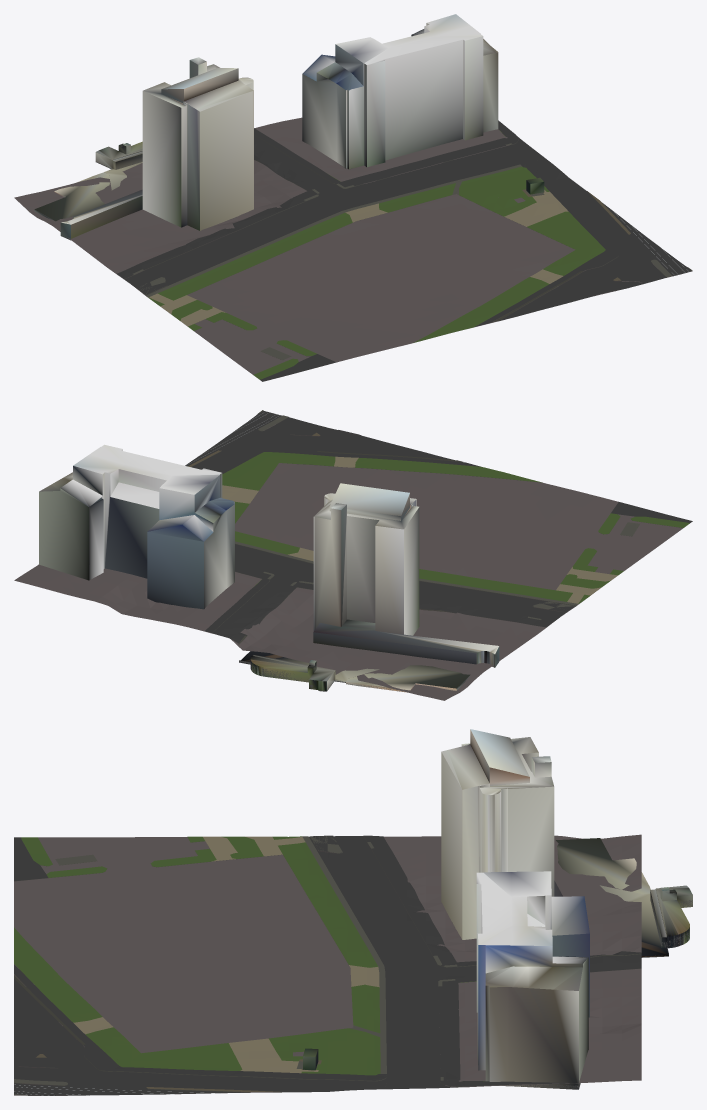
3 views of the same model, one above another, from view 1: azimuth 30°, elevation 25°; view 2: azimuth 150°, elevation 25°; view 3: azimuth 270°, elevation 25° (orthographic). The views are drawn at different scales.
Visible parts, largest first — view 1: c_m14_m07; view 2: c_m14_m07; view 3: c_m14_m07.
Boxes of the visible parts, left/top/right/bottom form: c_m14_m07: left=14, top=14, right=692, bottom=381; c_m14_m07: left=14, top=410, right=692, bottom=700; c_m14_m07: left=14, top=729, right=692, bottom=1095.
Bounding box in the file's own units: 129 × 39.04 × 138.
